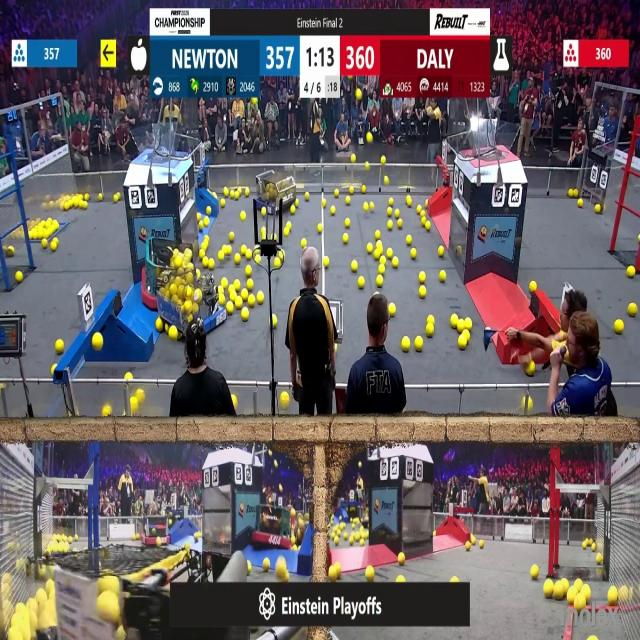ball_airborne: (356, 90, 362, 102), (366, 134, 372, 144), (351, 154, 356, 162), (269, 450, 274, 457), (275, 460, 279, 468), (280, 485, 284, 492)
ball_ground: (277, 559, 287, 578), (607, 588, 617, 606), (574, 593, 585, 608), (280, 392, 290, 408), (543, 582, 552, 599), (328, 565, 338, 580), (93, 335, 103, 350), (567, 588, 575, 604), (169, 326, 178, 340), (585, 586, 592, 603), (57, 340, 65, 354), (401, 338, 409, 352), (616, 320, 624, 334), (365, 566, 373, 580), (415, 338, 423, 352), (527, 360, 535, 374), (451, 314, 459, 328), (116, 627, 125, 639), (426, 323, 434, 336), (629, 304, 637, 317), (458, 337, 466, 350), (388, 305, 396, 318), (102, 407, 111, 418), (531, 565, 538, 579), (264, 558, 271, 572), (242, 309, 250, 321), (256, 292, 264, 304), (419, 285, 426, 298), (155, 319, 162, 332), (357, 277, 364, 289), (628, 267, 635, 279), (15, 272, 22, 284), (397, 554, 404, 566), (226, 303, 233, 315), (248, 294, 255, 306), (458, 317, 464, 331), (375, 248, 383, 258), (377, 276, 384, 287), (419, 273, 426, 284), (351, 262, 358, 273), (464, 318, 471, 329), (392, 256, 398, 268), (50, 240, 56, 252), (233, 394, 239, 406), (247, 280, 254, 290), (596, 555, 603, 565), (218, 294, 225, 304), (242, 289, 249, 299), (412, 248, 418, 259), (530, 281, 536, 292), (441, 272, 447, 283), (275, 257, 281, 268), (246, 267, 252, 278), (237, 300, 243, 311), (451, 575, 459, 583), (595, 205, 602, 214), (316, 223, 323, 232), (572, 188, 579, 197), (236, 254, 242, 264), (387, 248, 393, 258), (379, 266, 385, 276), (343, 235, 349, 245), (236, 280, 242, 290), (254, 254, 260, 264), (273, 316, 278, 328), (366, 244, 372, 254), (407, 236, 413, 246), (221, 278, 227, 288), (203, 257, 209, 267), (407, 198, 413, 208), (247, 562, 252, 574), (246, 250, 252, 260), (463, 329, 469, 339), (7, 246, 13, 256), (396, 575, 404, 582), (224, 246, 231, 254), (202, 242, 209, 250), (324, 256, 329, 267), (209, 260, 214, 271), (113, 192, 119, 201), (227, 233, 233, 242), (200, 249, 206, 258), (363, 203, 369, 212), (260, 208, 266, 217), (204, 217, 210, 226), (440, 247, 445, 257), (42, 239, 47, 249), (368, 202, 373, 212), (527, 398, 532, 408), (291, 535, 296, 545), (388, 208, 394, 216), (219, 200, 225, 208), (299, 240, 305, 248), (380, 255, 386, 263), (218, 252, 224, 260), (388, 200, 394, 208), (241, 246, 247, 254), (394, 209, 400, 217), (127, 373, 133, 381), (397, 219, 403, 227), (348, 536, 354, 544), (381, 157, 387, 165), (344, 534, 350, 542), (346, 197, 351, 206), (81, 201, 86, 210), (384, 176, 389, 185), (336, 536, 341, 545), (335, 189, 341, 196), (244, 188, 250, 195), (348, 187, 354, 194), (286, 221, 292, 228), (330, 207, 335, 215), (388, 220, 393, 228), (577, 200, 582, 208), (428, 315, 433, 323), (99, 192, 104, 200), (465, 541, 470, 549), (241, 212, 246, 220), (376, 232, 381, 240), (284, 230, 289, 238), (568, 188, 573, 196), (417, 206, 422, 214), (207, 207, 212, 215), (361, 185, 366, 193), (421, 217, 426, 225), (470, 536, 475, 544), (294, 200, 299, 208), (457, 246, 462, 254), (346, 218, 350, 227), (198, 213, 202, 222), (306, 191, 310, 200), (200, 220, 204, 229), (223, 187, 227, 196), (290, 207, 295, 214), (135, 533, 140, 540), (263, 226, 268, 233), (197, 533, 202, 540), (426, 222, 430, 230), (481, 539, 485, 547), (360, 538, 364, 546), (422, 209, 426, 217), (322, 201, 326, 208), (84, 195, 88, 202), (236, 191, 240, 198), (424, 202, 428, 209), (636, 236, 640, 243), (592, 543, 596, 550), (590, 636, 597, 640), (292, 544, 296, 550), (274, 235, 278, 241), (0, 383, 4, 389), (432, 530, 435, 536)
goal: (465, 122, 522, 160), (129, 129, 188, 160)
robot_blue: (161, 258, 227, 334), (255, 167, 298, 213)
robot_red: (31, 554, 100, 640), (258, 504, 303, 548), (143, 513, 185, 547)
